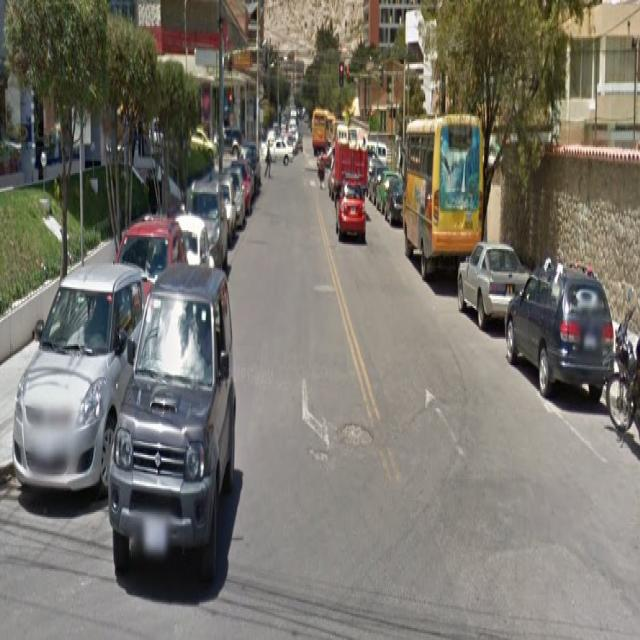cars: (141, 269, 235, 594), (29, 246, 112, 500), (525, 240, 612, 410), (404, 108, 484, 271), (462, 223, 512, 344), (337, 183, 365, 244)
